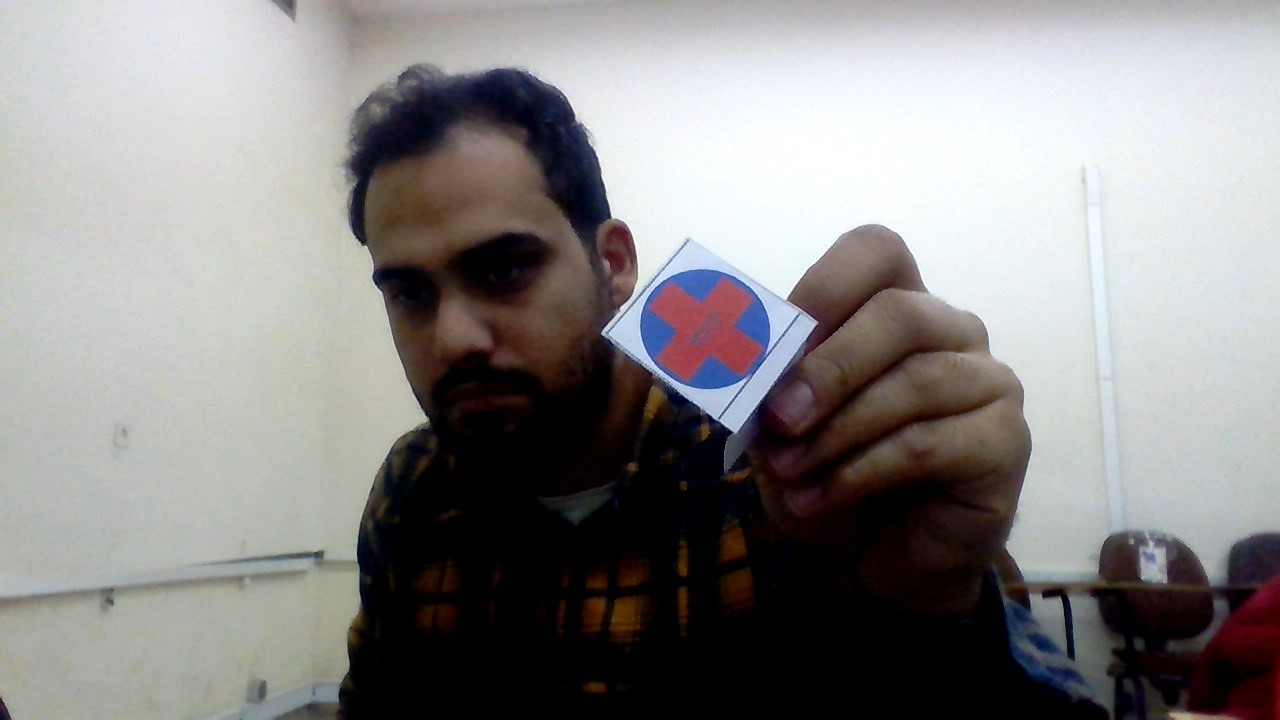bmc: (640, 265, 771, 390)
